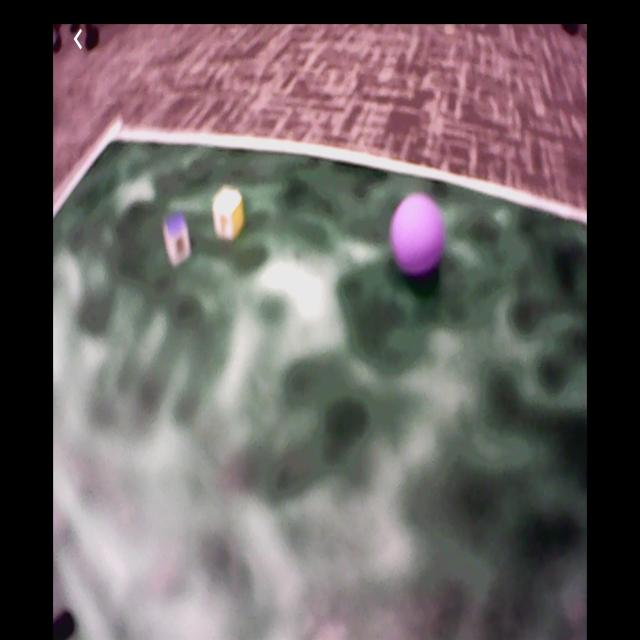ball: (391, 196, 446, 279)
